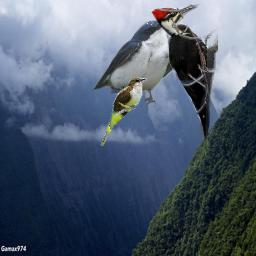Cuckoo: (100, 77, 147, 146)
Swallow: (92, 20, 178, 106)
Woodpecker: (151, 3, 218, 147)
